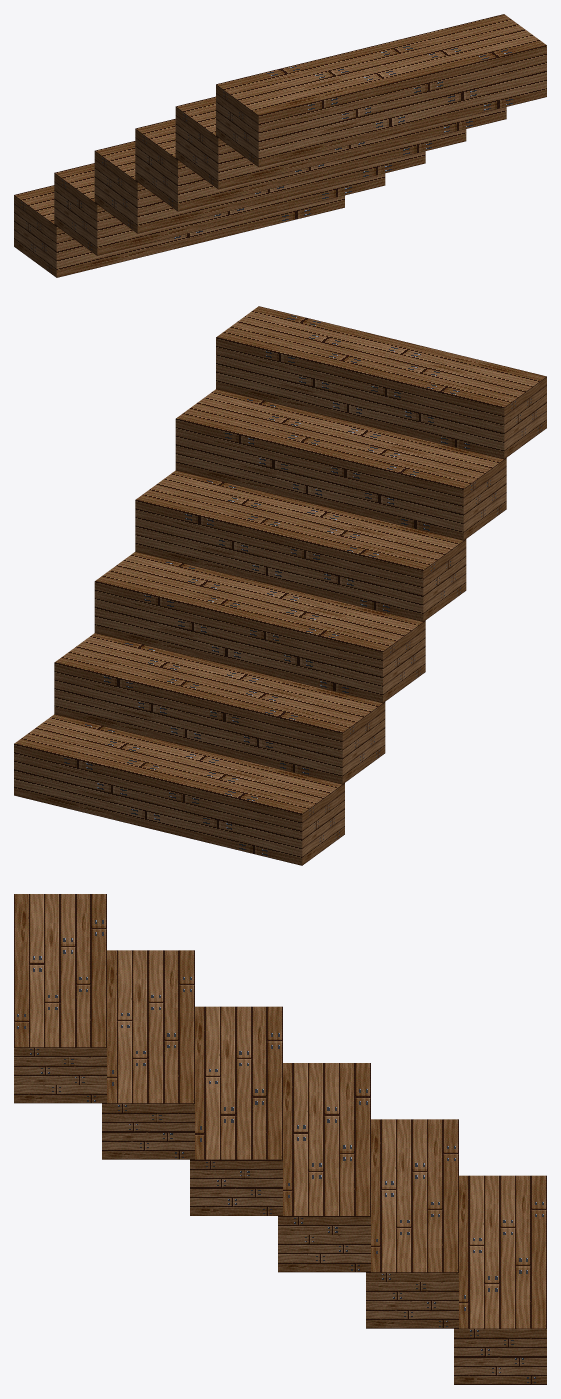
The model's file is mina_escada_descida.glb.
3 renders of one model, top to bottom at view 1: azimuth 30°, elevation 25°; view 2: azimuth 150°, elevation 25°; view 3: azimuth 270°, elevation 25°, orthographic. The views are drawn at different scales.
Visible parts, largest first — view 1: mina_escada_descida; view 2: mina_escada_descida; view 3: mina_escada_descida.
Boxes of the visible parts, x1,y1,x2,y2 form: mina_escada_descida: (14, 14, 546, 277); mina_escada_descida: (14, 306, 546, 865); mina_escada_descida: (14, 894, 546, 1384).
Size of the model in its own units: 1.4 by 1.44 by 2.06.
1 material, 1 textured.
